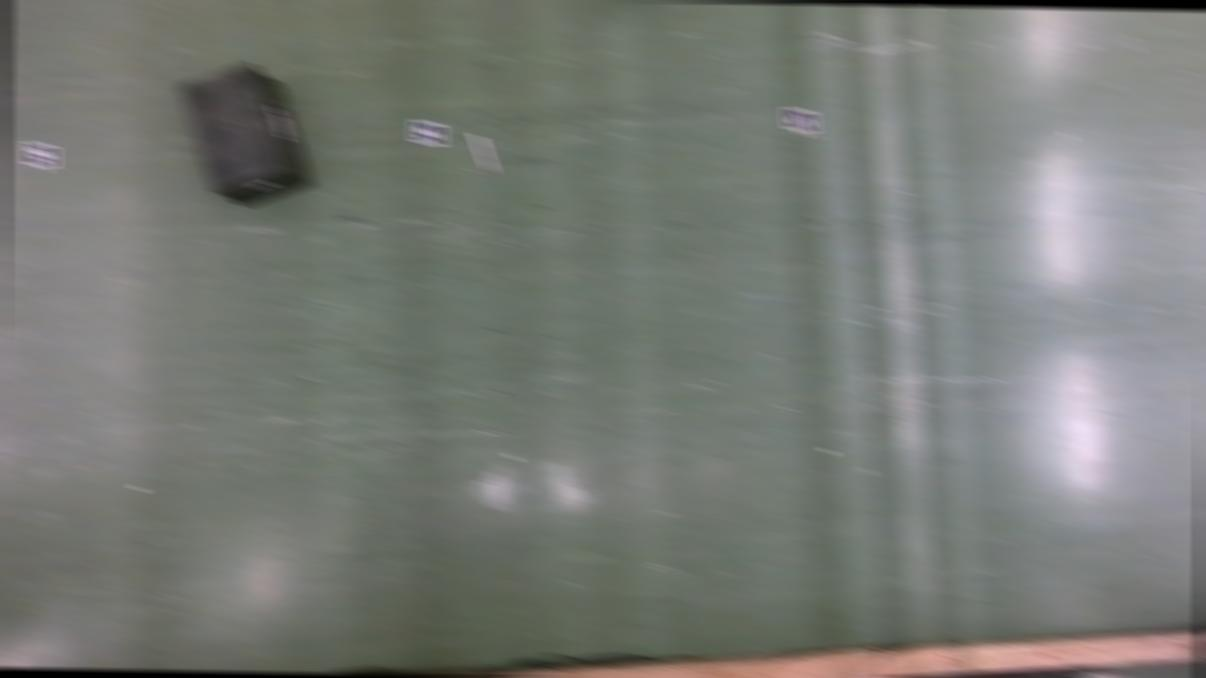probes: (472, 134, 496, 174), (924, 6, 952, 10)
rako: (175, 61, 316, 210)
